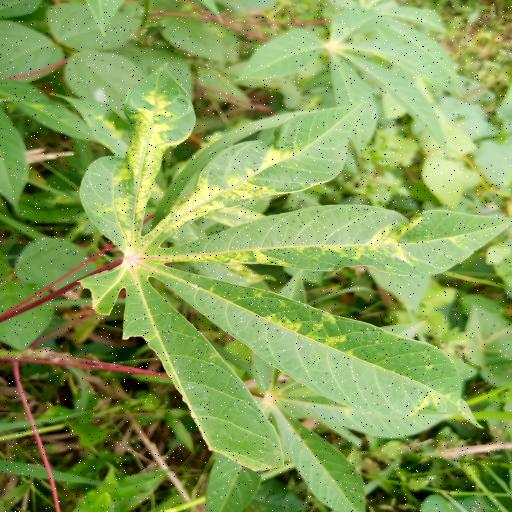Cassava_Mosaic: (63, 66, 512, 475)
